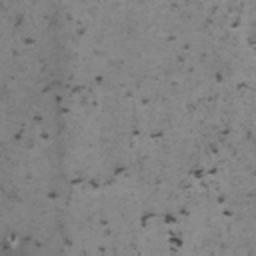Oxide scale of temperature system: (0, 12, 256, 256)
